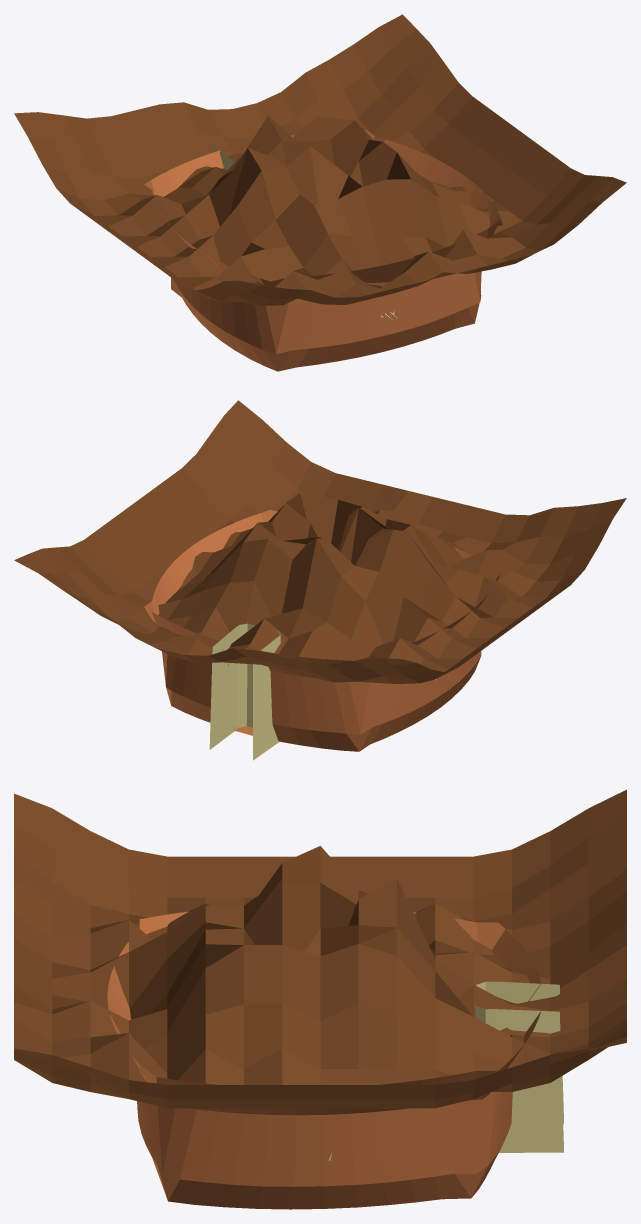
Rendered from Escape_Room.fbx.
The picture shows the model from 3 angles, top to bottom: view 1: azimuth 30°, elevation 25°; view 2: azimuth 150°, elevation 25°; view 3: azimuth 270°, elevation 25°; orthographic projection. The views are drawn at different scales.
Visible parts, largest first — view 1: Plane.001, Plane; view 2: Plane.001, Plane, Cube; view 3: Plane.001, Plane, Cube.
Part boxes in pixels (box(x1,y1,x2,y2)): Plane.001: box(14, 14, 626, 305); Plane: box(144, 130, 502, 371); Plane.001: box(14, 400, 626, 683); Plane: box(144, 510, 502, 751); Cube: box(209, 623, 280, 760); Plane.001: box(14, 789, 626, 1108); Plane: box(107, 911, 541, 1209); Cube: box(475, 981, 563, 1152).
Bounding box in the file's own units: 3475 × 1525 × 3475.
